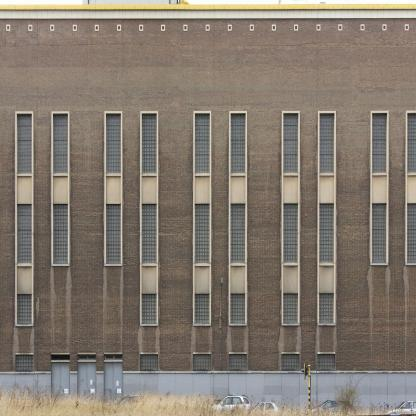Building Outline: (0, 0, 416, 407)
Cornice: (104, 352, 122, 355), (193, 352, 211, 355), (140, 352, 158, 355), (51, 353, 70, 355), (78, 353, 96, 355), (16, 353, 34, 355), (229, 352, 246, 354), (282, 352, 299, 354), (318, 352, 335, 354)
Dont: (0, 362, 416, 416)
Door: (104, 362, 123, 407), (51, 362, 70, 407), (78, 362, 96, 407)
Facade: (1, 5, 416, 407)
Floor: (0, 102, 416, 190), (0, 195, 416, 278), (0, 283, 416, 338), (0, 51, 416, 97), (0, 4, 416, 46)
Floor Slab: (0, 46, 416, 51), (0, 278, 416, 283), (0, 190, 416, 195), (0, 97, 416, 102), (0, 339, 416, 343)
Ground Floor: (0, 343, 416, 407)
Window: (17, 204, 32, 264), (53, 204, 68, 264), (106, 204, 121, 264), (142, 204, 157, 264), (195, 204, 210, 264), (231, 113, 246, 173), (284, 113, 299, 173), (320, 113, 335, 173), (372, 113, 387, 173), (17, 114, 32, 173), (53, 114, 68, 173), (106, 114, 121, 173), (142, 114, 157, 173), (195, 114, 210, 173), (230, 204, 245, 263), (283, 204, 298, 263), (319, 204, 334, 263), (372, 204, 387, 263), (407, 113, 416, 173), (407, 204, 416, 263), (195, 293, 210, 324), (231, 293, 246, 324), (283, 293, 298, 324), (319, 293, 334, 324), (17, 294, 32, 325), (142, 294, 157, 324), (16, 355, 34, 372), (318, 354, 335, 371), (282, 354, 299, 371), (229, 354, 246, 371), (140, 355, 158, 371), (193, 355, 211, 371), (51, 355, 70, 361), (78, 355, 96, 361), (104, 355, 122, 360)
